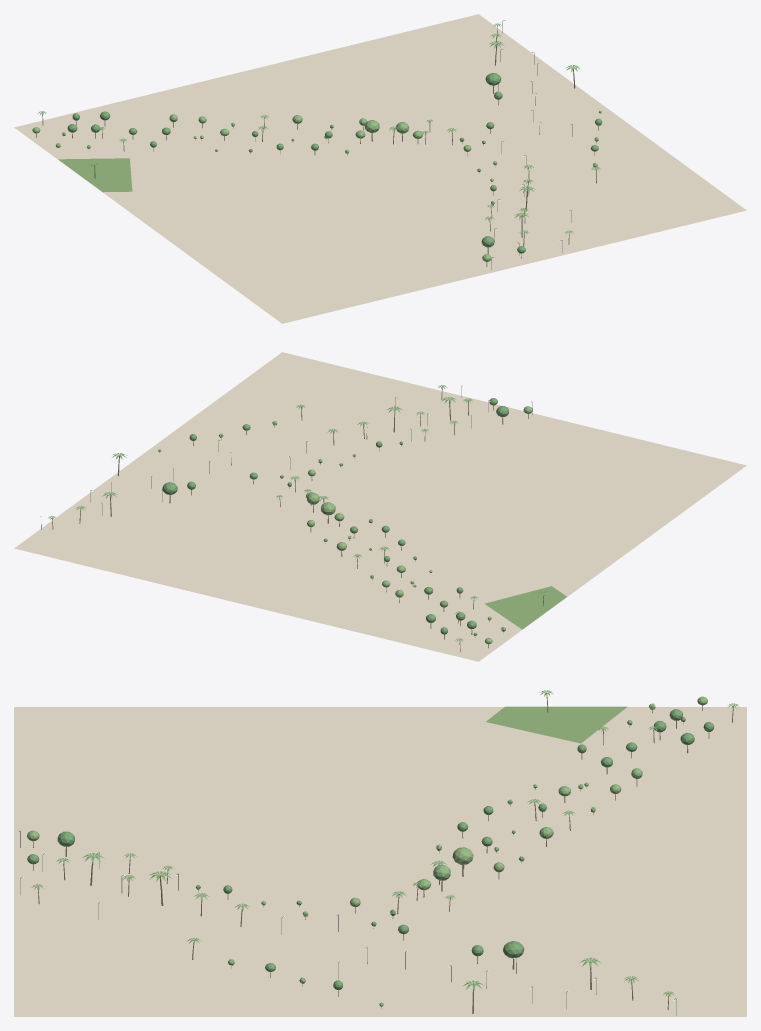
File: nature_2_-7.glb
3 views of the same model, one above another, from view 1: azimuth 30°, elevation 25°; view 2: azimuth 150°, elevation 25°; view 3: azimuth 270°, elevation 25° (orthographic). The views are drawn at different scales.
Visible parts, largest first — view 1: ground, grass, foliage_a, foliage_b, palm_leaf, trunk; view 2: ground, grass, foliage_a, foliage_b, palm_leaf, trunk; view 3: ground, grass, foliage_a, foliage_b, palm_leaf, trunk.
Part boxes in pixels (x1,y1,x2,y2): ground: [14, 14, 746, 323]; grass: [58, 158, 132, 192]; foliage_a: [62, 73, 602, 253]; foliage_b: [32, 110, 601, 261]; palm_leaf: [38, 23, 600, 235]; trunk: [36, 28, 598, 266]; ground: [14, 352, 746, 661]; grass: [484, 586, 566, 629]; foliage_a: [162, 398, 508, 636]; foliage_b: [158, 406, 532, 644]; palm_leaf: [48, 385, 548, 642]; trunk: [52, 387, 544, 651]; ground: [14, 707, 746, 1016]; grass: [486, 706, 627, 743]; foliage_a: [27, 709, 714, 989]; foliage_b: [27, 696, 707, 1006]; palm_leaf: [31, 690, 739, 996]; trunk: [33, 693, 733, 1013].
Size of the model in its own units: 251 by 12.07 by 250.
